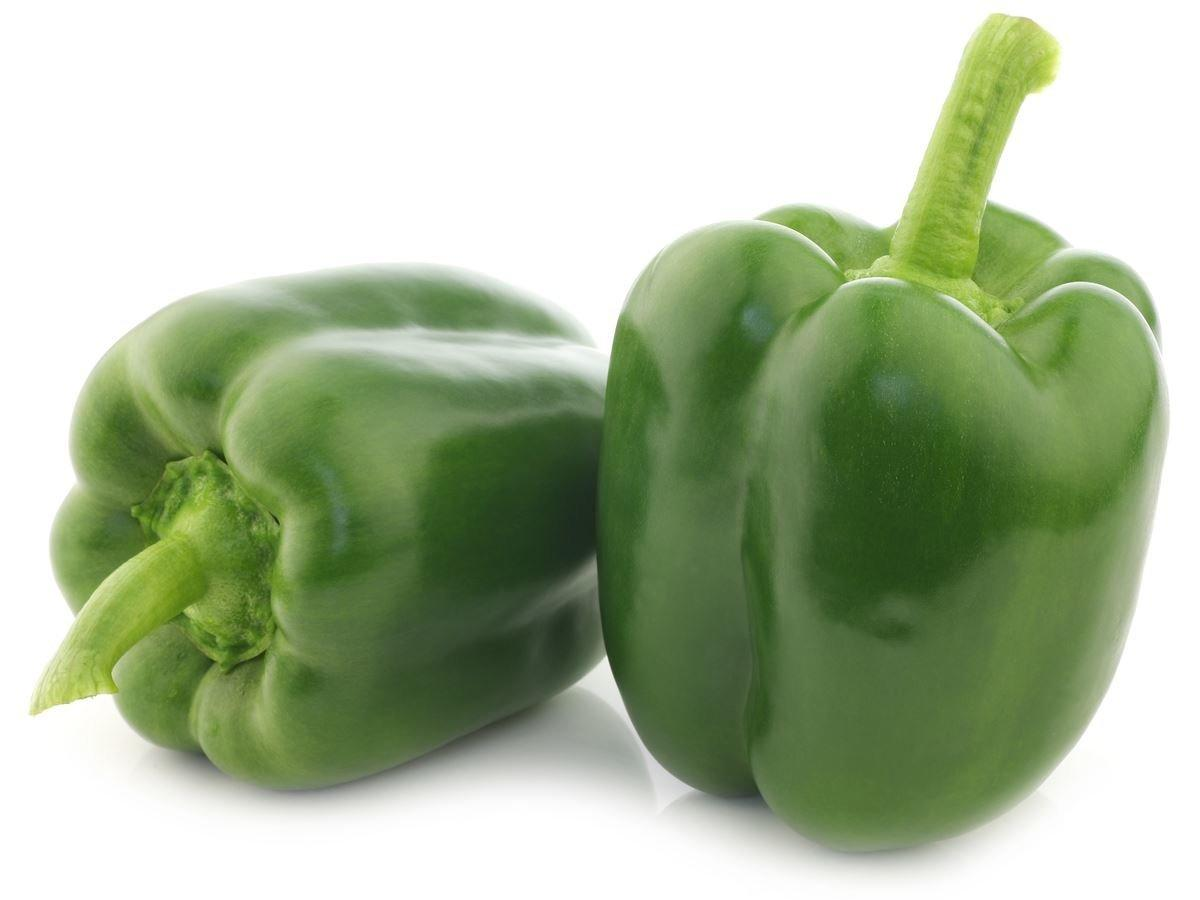capsicum: (593, 11, 1170, 854), (28, 258, 611, 792)
